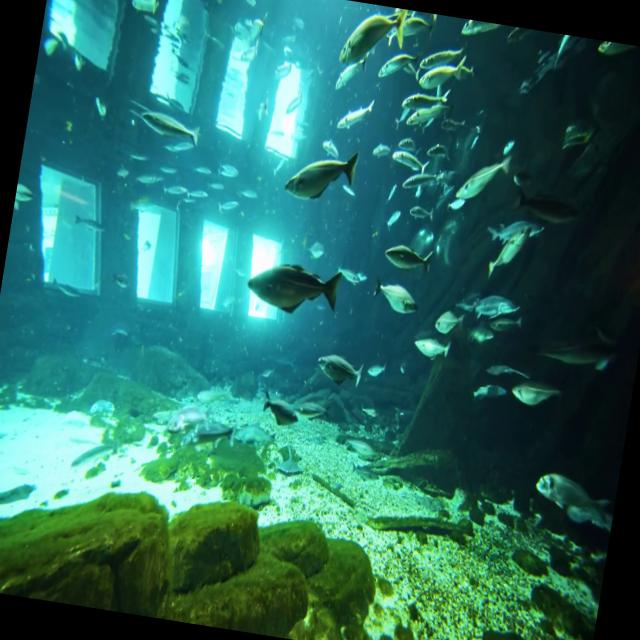fish: (240, 245, 348, 328), (327, 0, 409, 88), (280, 138, 365, 213), (548, 78, 605, 180), (530, 466, 618, 528), (500, 174, 586, 236), (134, 97, 205, 159), (452, 148, 512, 212), (308, 344, 376, 399), (482, 218, 532, 288), (252, 382, 308, 438), (378, 230, 434, 283), (330, 88, 383, 142), (470, 286, 524, 334), (508, 372, 564, 417), (399, 94, 452, 140), (414, 49, 468, 94), (368, 274, 422, 316), (328, 52, 370, 104), (406, 329, 458, 369), (396, 164, 442, 203), (388, 141, 430, 175), (431, 304, 468, 338)
